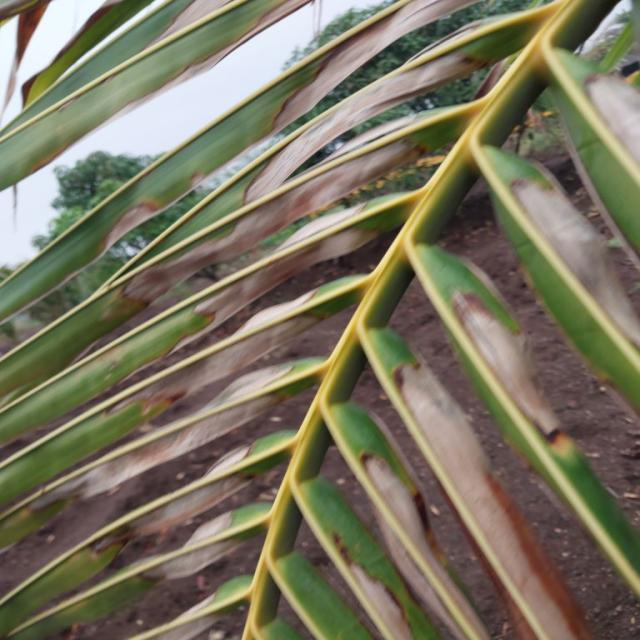gray leaf spot: (52, 4, 635, 640)
